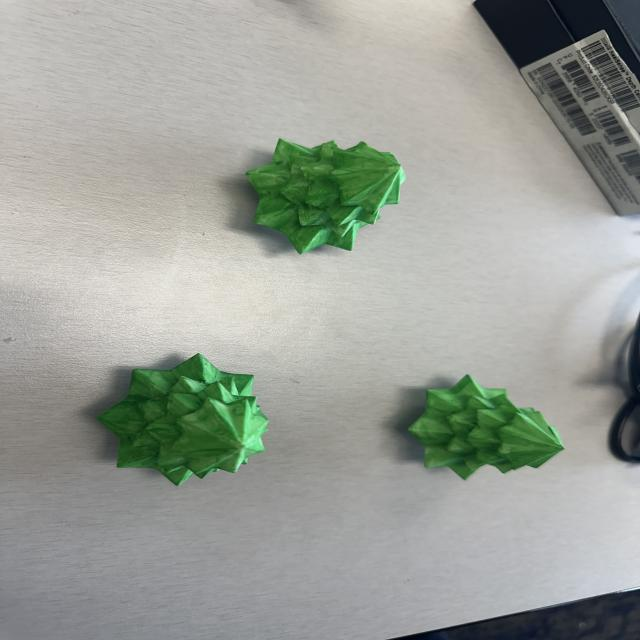tree: (93, 356, 270, 487), (244, 137, 406, 254), (409, 376, 564, 480)
